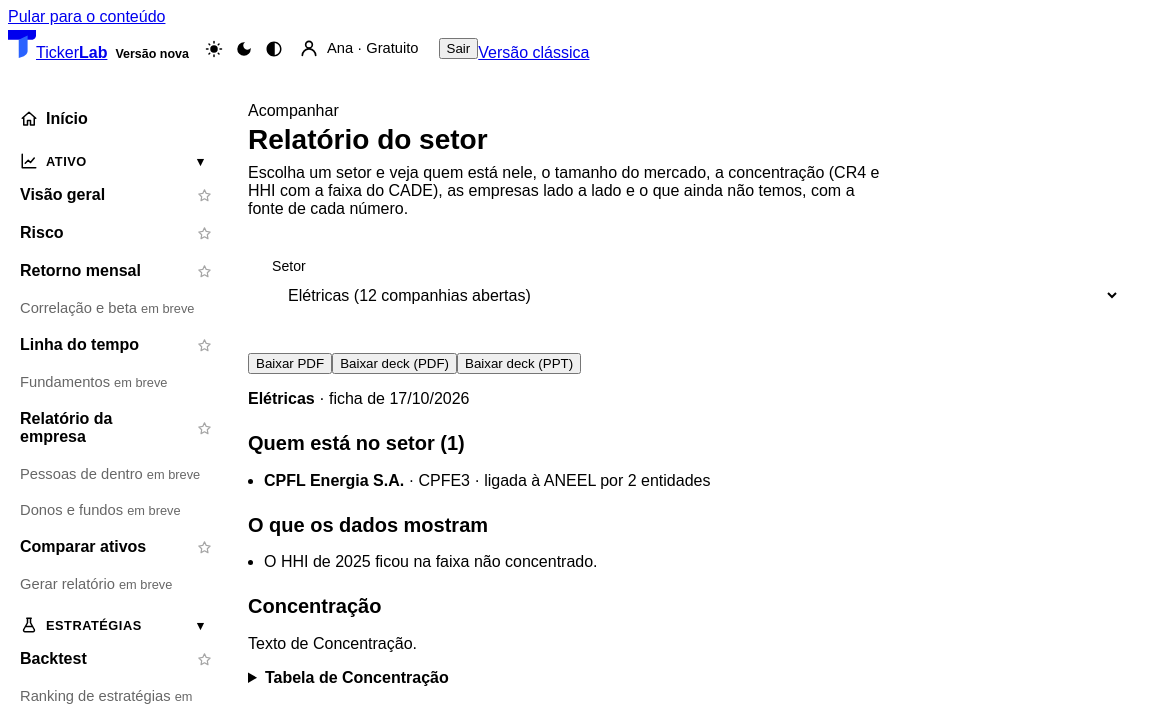
Test case: relatório do setor › trocar o setor pede o relatório do outro setor
Expected: the heading "Concentração" is shown, [248,595,381,617]
Select "Telecom (3 companhias abertas)" in the dropdown labelled "Setor" at (696, 296), box [272,278,1120,313]
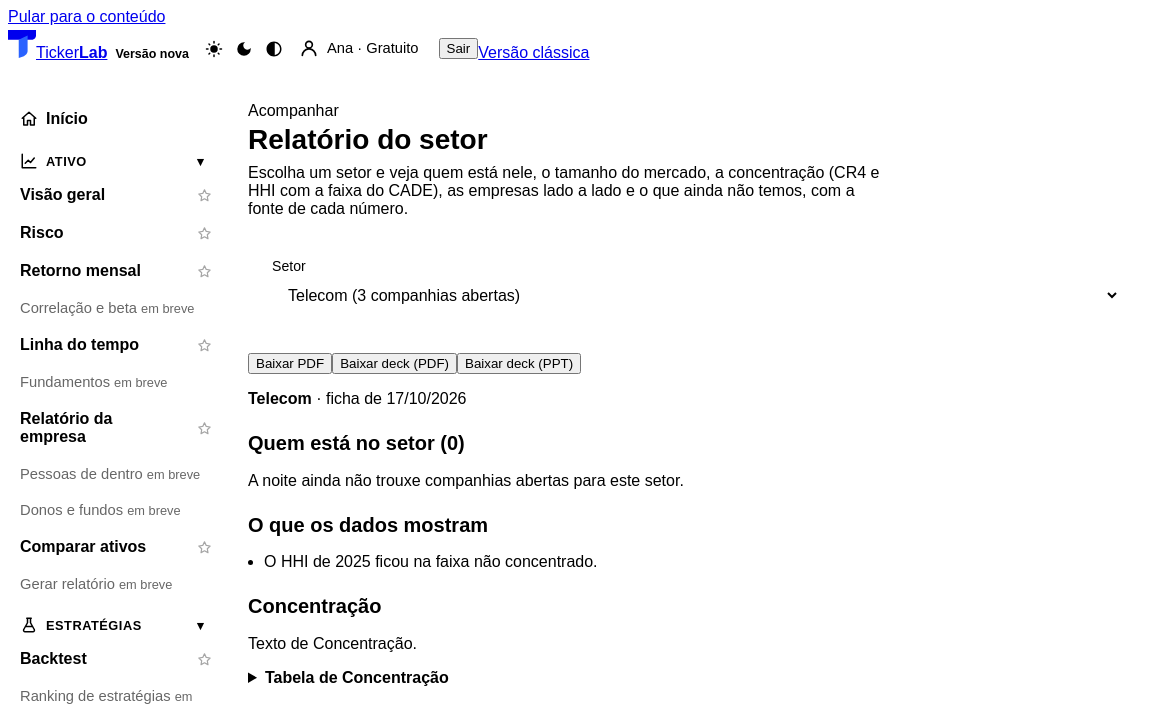
Now the text "A noite ainda não trouxe companhias abertas para este setor." is shown, box [248,472,684,489]
